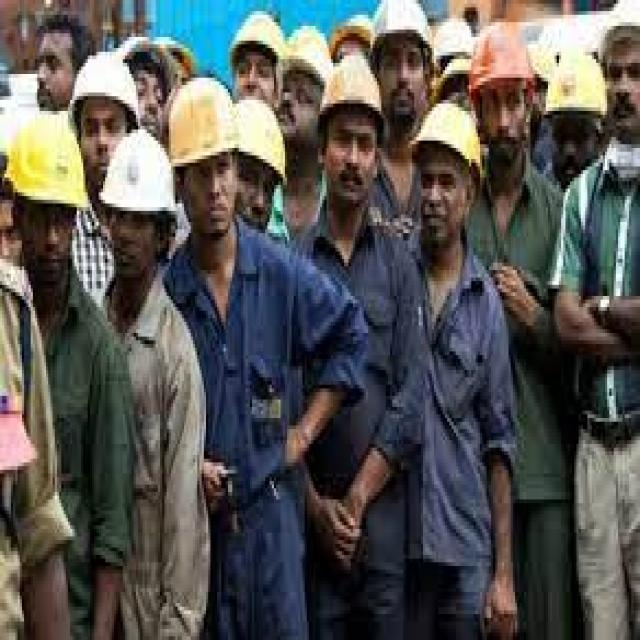Safety-Helmet: (2, 111, 90, 215), (99, 126, 180, 222), (167, 74, 234, 170), (408, 96, 484, 178), (542, 41, 612, 122), (464, 19, 534, 96), (68, 48, 140, 118), (230, 96, 289, 181), (318, 52, 386, 122), (368, 0, 436, 55), (228, 4, 285, 63), (596, 0, 640, 44)
